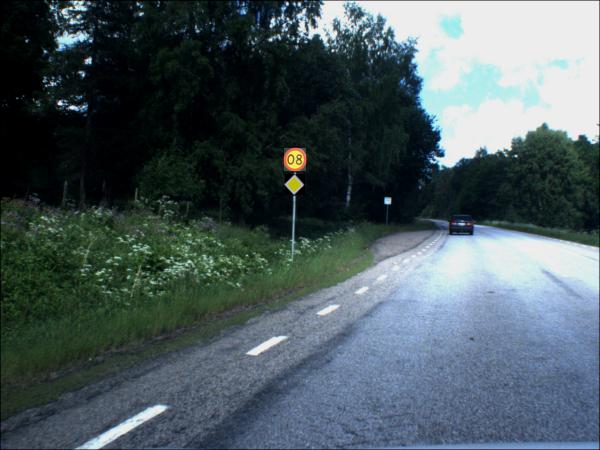80_SIGN: (284, 149, 307, 173)
PRIORITY_ROAD: (285, 175, 306, 197)
